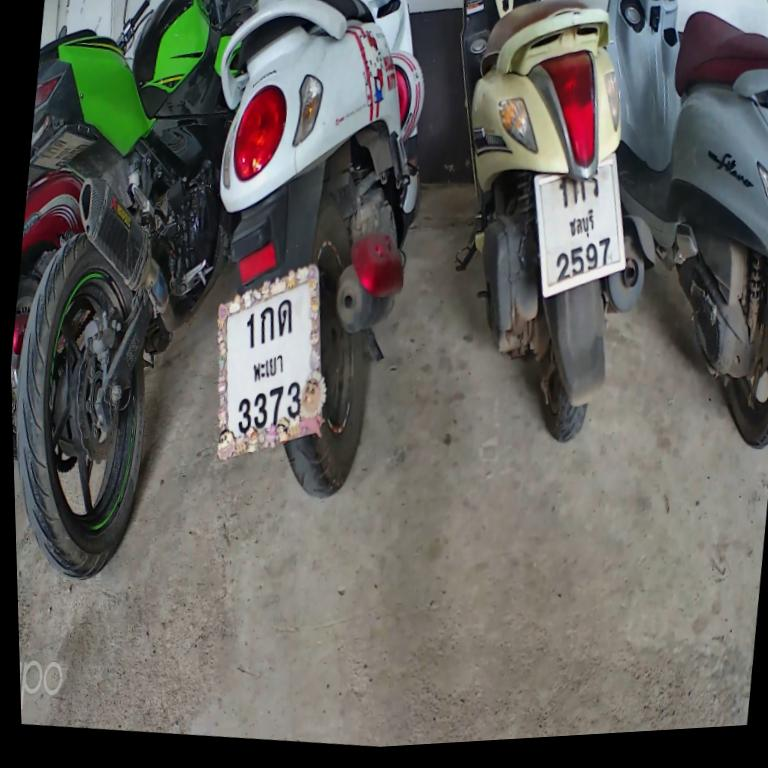license plate: (188, 234, 355, 485), (512, 137, 647, 314)
